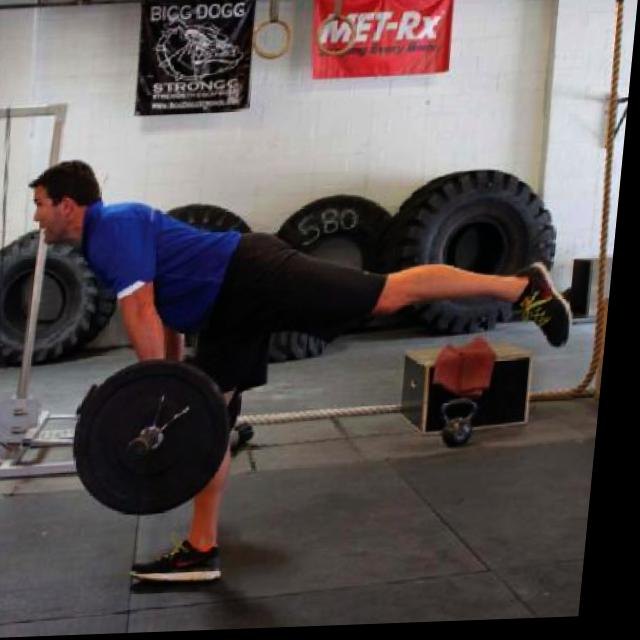barbell: (73, 358, 247, 525)
